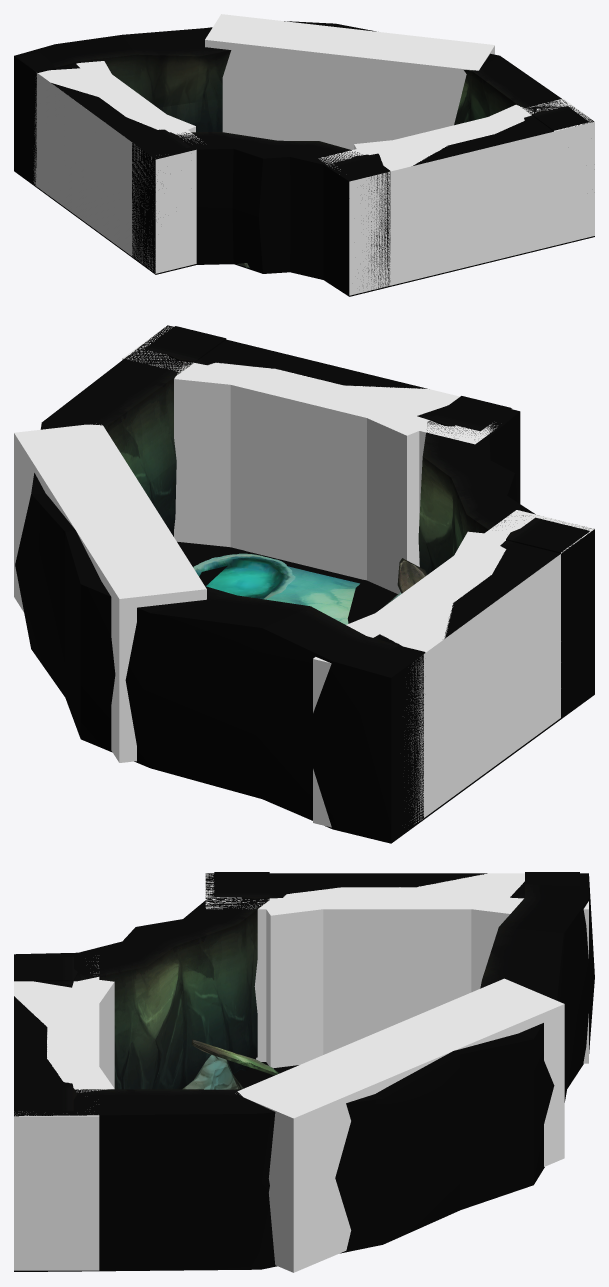
Rendered from Dungeon_073_RoadL_002.fbx.
3 views of the same model, one above another, from view 1: azimuth 30°, elevation 25°; view 2: azimuth 150°, elevation 25°; view 3: azimuth 270°, elevation 25° (orthographic). The views are drawn at different scales.
Parts seen in each view (by area): view 1: DoorWay_NavMask (3) (×3), Dun_073_RoadL_002_wall, Dun_073_Door_002 (×2), DoorWay_NavMask (1) (×2), DoorWay_NavMask (4) (×2), DoorWay_NavMask (2) (×2); view 2: Dun_073_RoadL_002_wall, DoorWay_NavMask (3) (×3), Dun_073_Door_002 (×2), DoorWay_NavMask (4) (×2), DoorWay_NavMask (1) (×2), DoorWay_NavMask (2) (×2), Dun_073_OB_Asiato02, Dun_073_RoadL_002_ground, Dun_073_RoadL_002_shadow; view 3: Dun_073_RoadL_002_wall, DoorWay_NavMask (3) (×3), DoorWay_NavMask (4) (×2), Dun_073_Door_002 (×2), DoorWay_NavMask (1) (×2), DoorWay_NavMask (2) (×2), Dun_073_OB_Stone01, Dun_073_OB_Rubble, Dun_073_RoadL_002_shadow.
Boxes of the visible parts, x1,y1,x2,y2 form: DoorWay_NavMask (3) (×3): (33,14,594,295); Dun_073_RoadL_002_wall: (14,21,594,296); Dun_073_Door_002 (×2): (17,52,588,286); DoorWay_NavMask (1) (×2): (37,69,554,284); DoorWay_NavMask (4) (×2): (129,104,535,134); DoorWay_NavMask (2) (×2): (76,61,422,155); Dun_073_RoadL_002_wall: (15,325,594,843); DoorWay_NavMask (3) (×3): (14,326,594,827); Dun_073_Door_002 (×2): (144,326,589,818); DoorWay_NavMask (4) (×2): (174,362,504,573); DoorWay_NavMask (1) (×2): (189,362,505,817); DoorWay_NavMask (2) (×2): (345,395,426,637); Dun_073_OB_Asiato02: (193,553,295,599); Dun_073_RoadL_002_ground: (264,566,359,624); Dun_073_RoadL_002_shadow: (177,541,397,623); Dun_073_RoadL_002_wall: (14,873,594,1271); DoorWay_NavMask (3) (×3): (14,873,588,1272); DoorWay_NavMask (4) (×2): (50,888,351,1092); Dun_073_Door_002 (×2): (14,872,579,1111); DoorWay_NavMask (1) (×2): (14,873,524,1089); DoorWay_NavMask (2) (×2): (50,888,523,1088); Dun_073_OB_Stone01: (182,1055,243,1089); Dun_073_OB_Rubble: (191,1039,279,1075); Dun_073_RoadL_002_shadow: (232,1062,298,1088).
Size of what is drawn, in the model's own units: 6.81 by 2.08 by 6.82.
